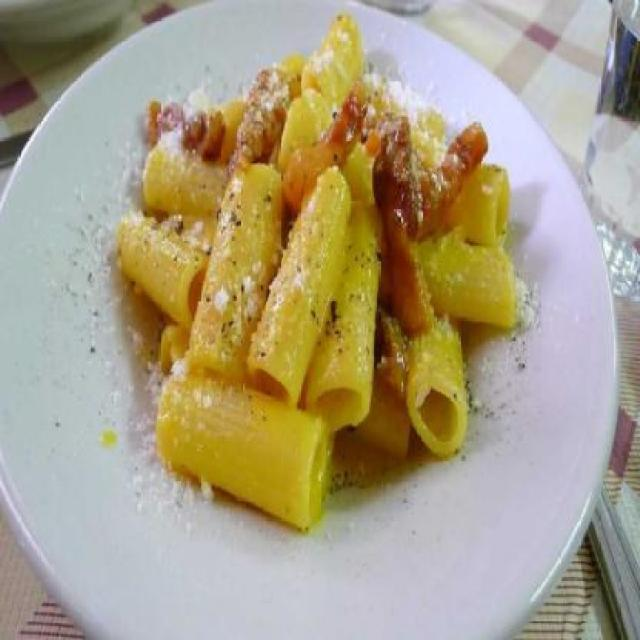Pasta with carbonara sauce: (94, 20, 550, 534)
